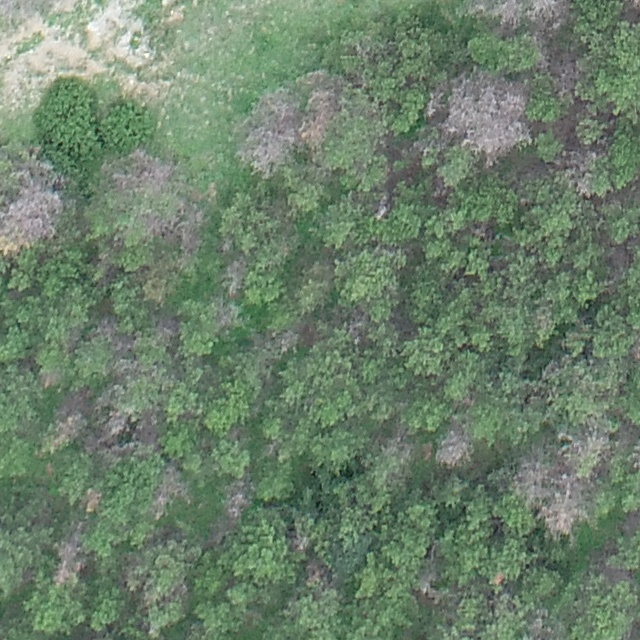unhealthy: (515, 435, 600, 536), (446, 73, 534, 159), (237, 93, 299, 175), (0, 178, 63, 253), (109, 150, 175, 194), (49, 387, 90, 449), (304, 82, 343, 144), (51, 528, 88, 586), (148, 463, 187, 517), (543, 47, 581, 96), (376, 421, 418, 463), (526, 0, 573, 36), (436, 425, 474, 469), (173, 206, 206, 253), (220, 478, 252, 520), (221, 255, 249, 297), (418, 80, 446, 119), (99, 409, 131, 442), (524, 609, 559, 639), (139, 210, 172, 241), (210, 300, 241, 331), (302, 559, 334, 589), (205, 519, 237, 548), (151, 315, 180, 343), (497, 0, 523, 30), (90, 316, 121, 340), (81, 487, 103, 513), (619, 509, 640, 534), (631, 335, 640, 364)
